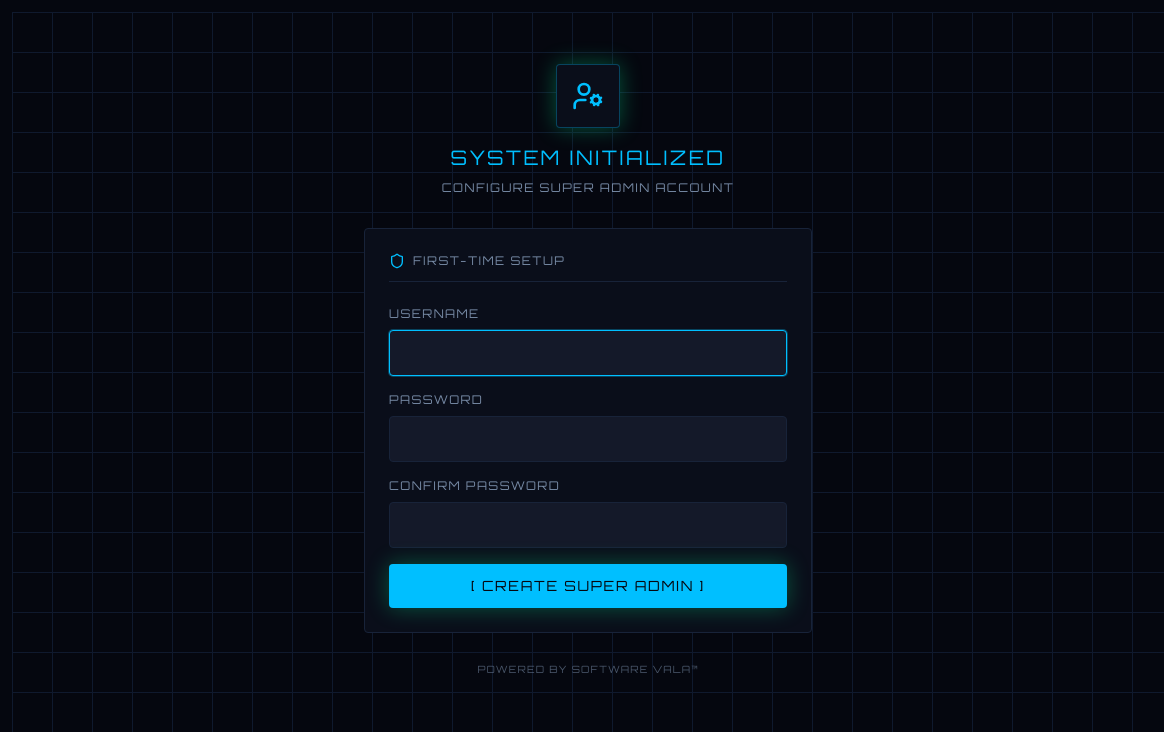
First-time install flow › auto-logs in and routes to the app after completing Setup
The width and height of the screenshot is (1164, 732).
Check: the text "First-Time Setup" is shown, box [413,252,565,268]
Type "commander" into the field.
click(588, 352); type("commander")  # box [389,330,787,376]
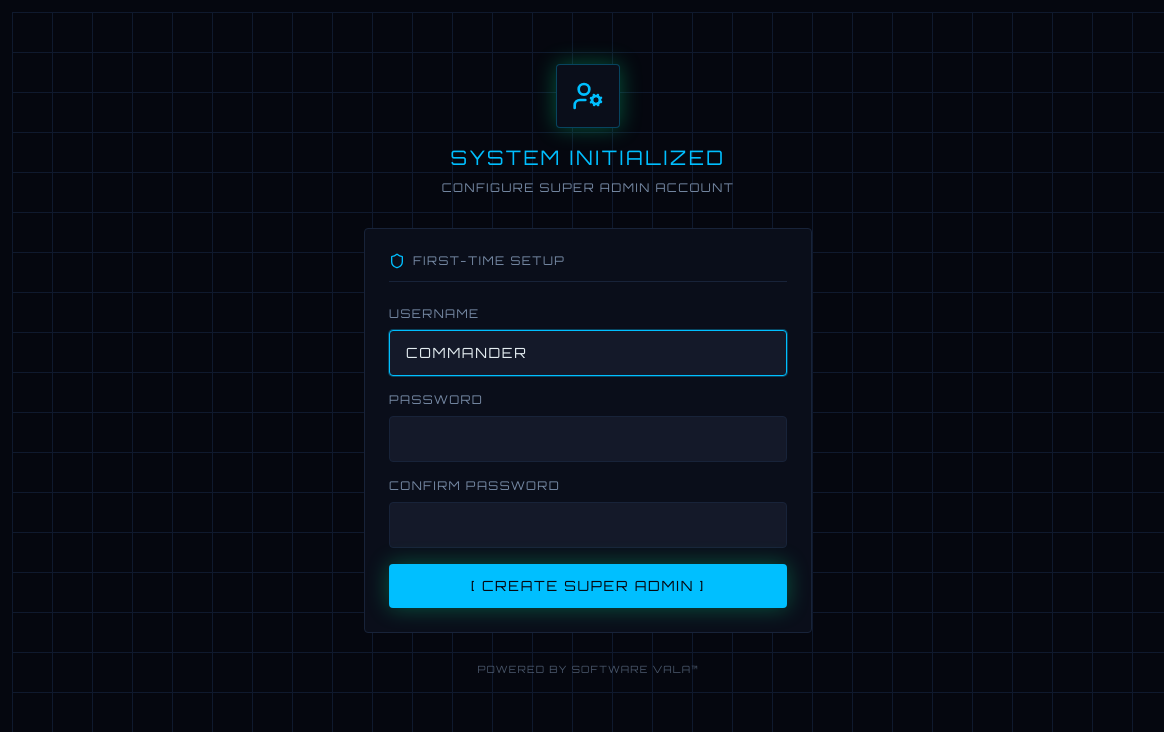
Type "secret123" into the 1st password field.
click(588, 438); type("secret123")  # box [389,416,787,462]
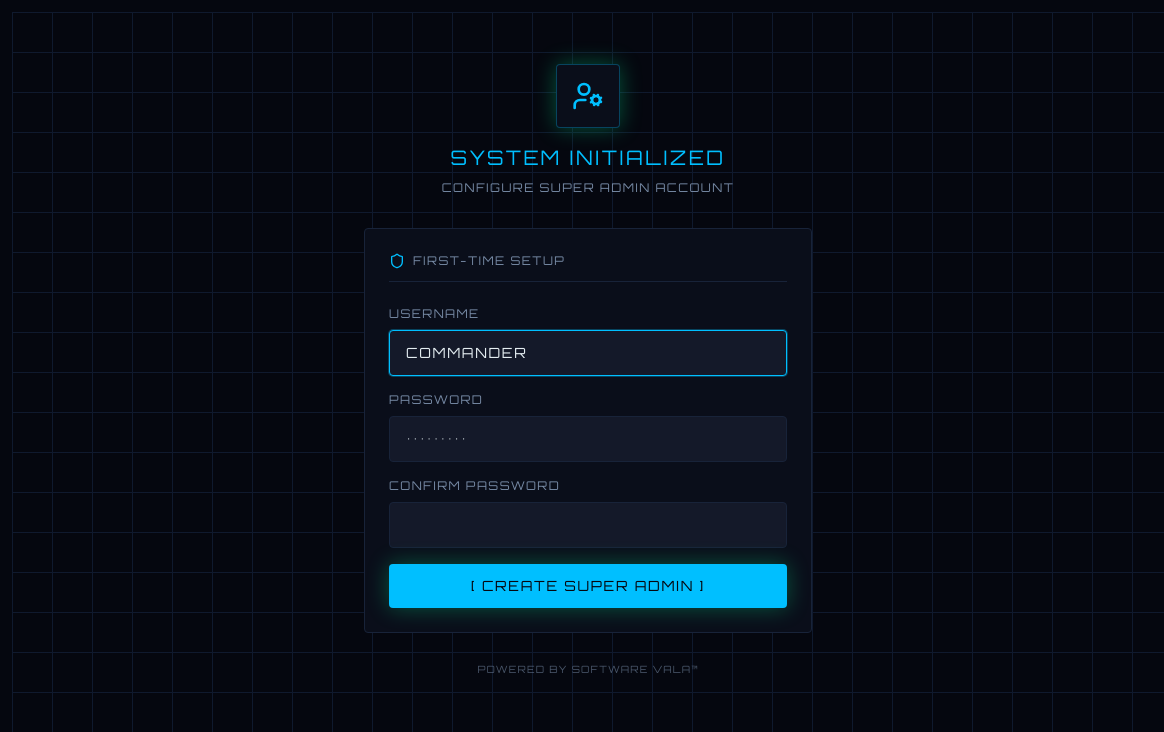
Type "secret123" into the password field below "Confirm Password".
click(588, 524); type("secret123")  # box [389,502,787,548]
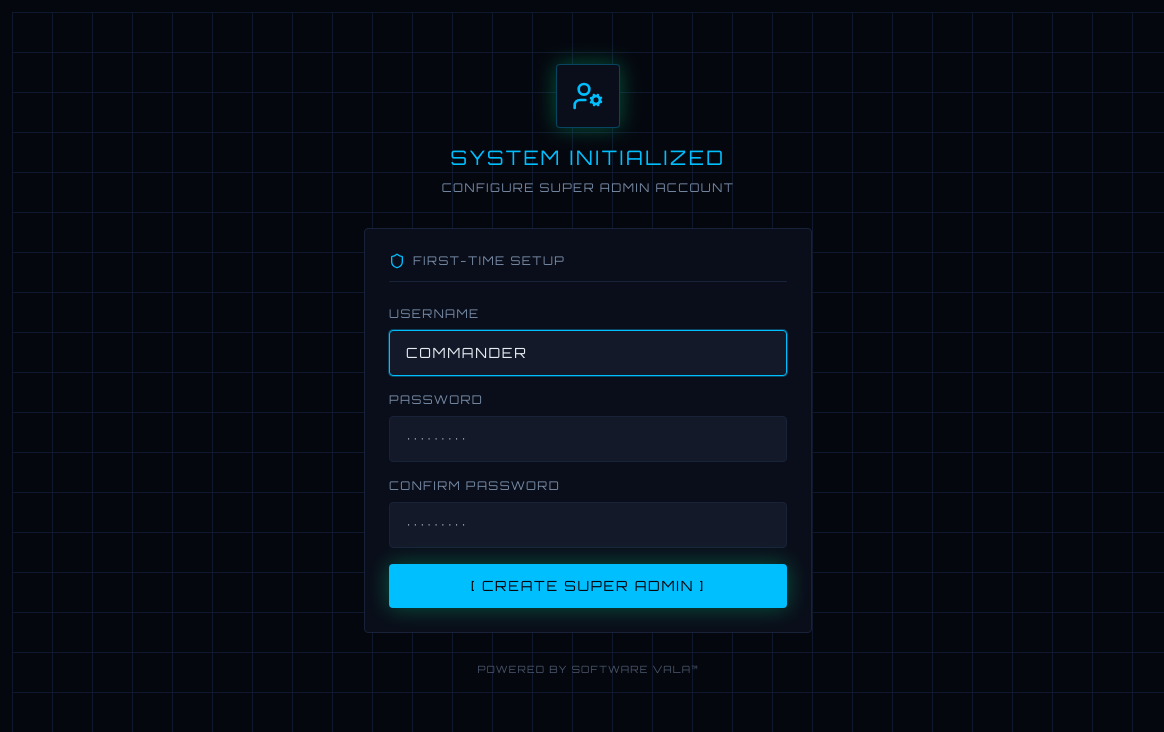
Click the button "[ CREATE SUPER ADMIN ]".
click(588, 586)  # box [389,564,787,608]
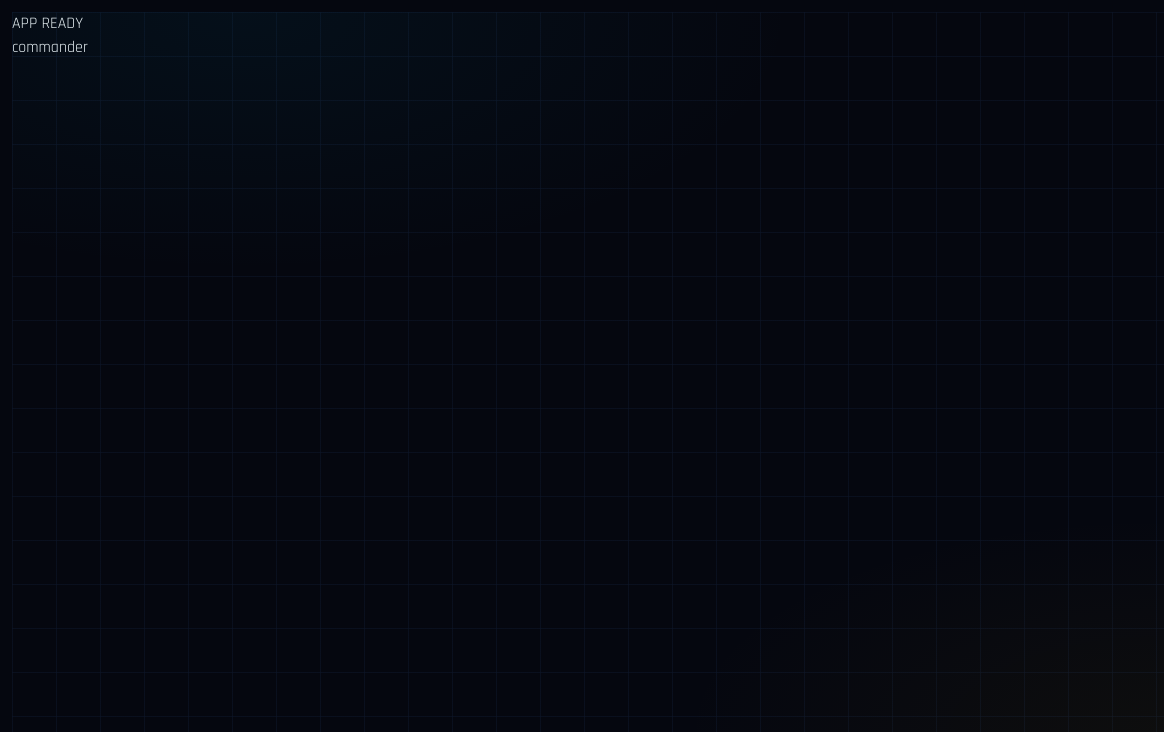
Check: the text "APP READY" is shown, box [12,13,83,34]
Check: the text with test id "current-user" reads "commander", box [12,37,88,58]
